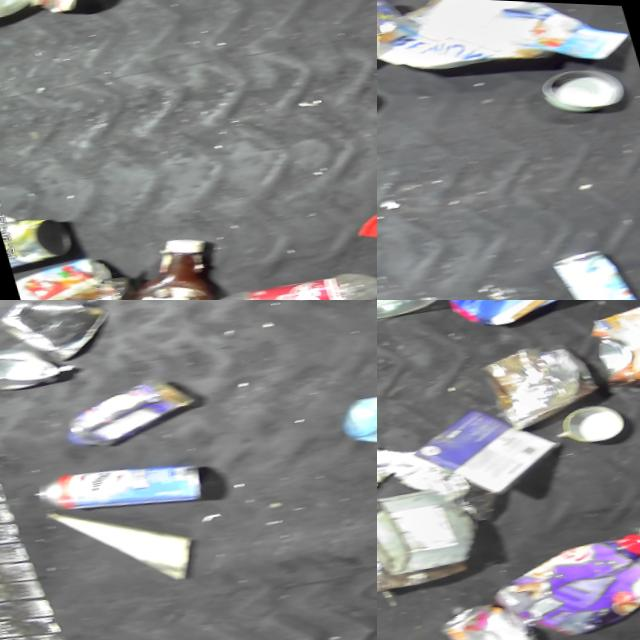can: (15, 442, 210, 531), (0, 300, 115, 372), (540, 235, 640, 300), (532, 52, 632, 115), (422, 588, 540, 640), (577, 300, 640, 388), (0, 332, 71, 402), (0, 208, 71, 270), (547, 394, 627, 447)
non_white_jug: (466, 506, 640, 640)
plastic_bottle: (193, 251, 377, 300)
